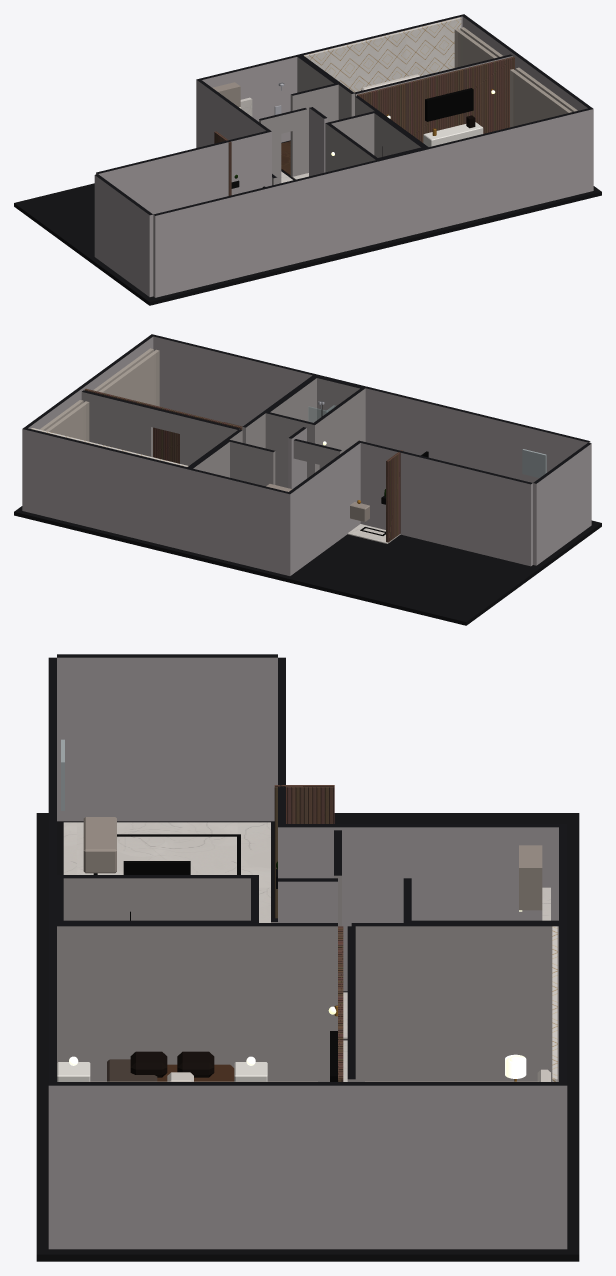
File: 2-bed-apartment.glb
The picture shows the model from 3 angles, top to bottom: view 1: azimuth 30°, elevation 25°; view 2: azimuth 150°, elevation 25°; view 3: azimuth 270°, elevation 25°; orthographic projection. The views are drawn at different scales.
Visible parts, largest first — view 1: mesh0; view 2: mesh0; view 3: mesh0.
Part boxes in pixels (<box>): mesh0: <box>14,14,601,305</box>; mesh0: <box>14,334,601,625</box>; mesh0: <box>36,654,579,1261</box>.
Size of the model in its own units: 15.6 by 2.82 by 8.1.
32 materials, 5 textured.
